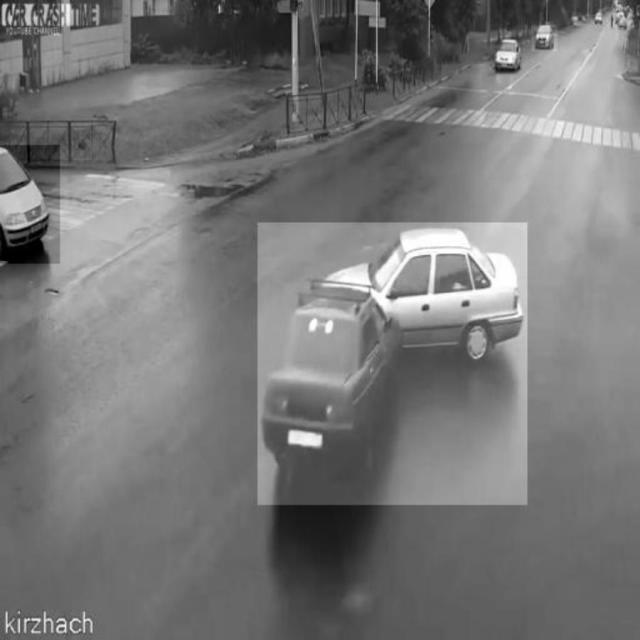accident: (258, 223, 528, 505)
vehicle: (0, 145, 60, 263), (493, 37, 523, 71), (532, 26, 558, 52)
